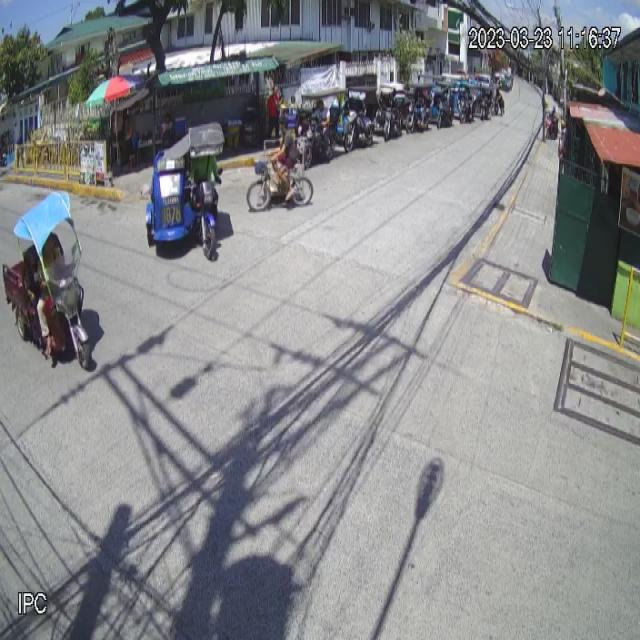Tricycle: (145, 120, 227, 261)
